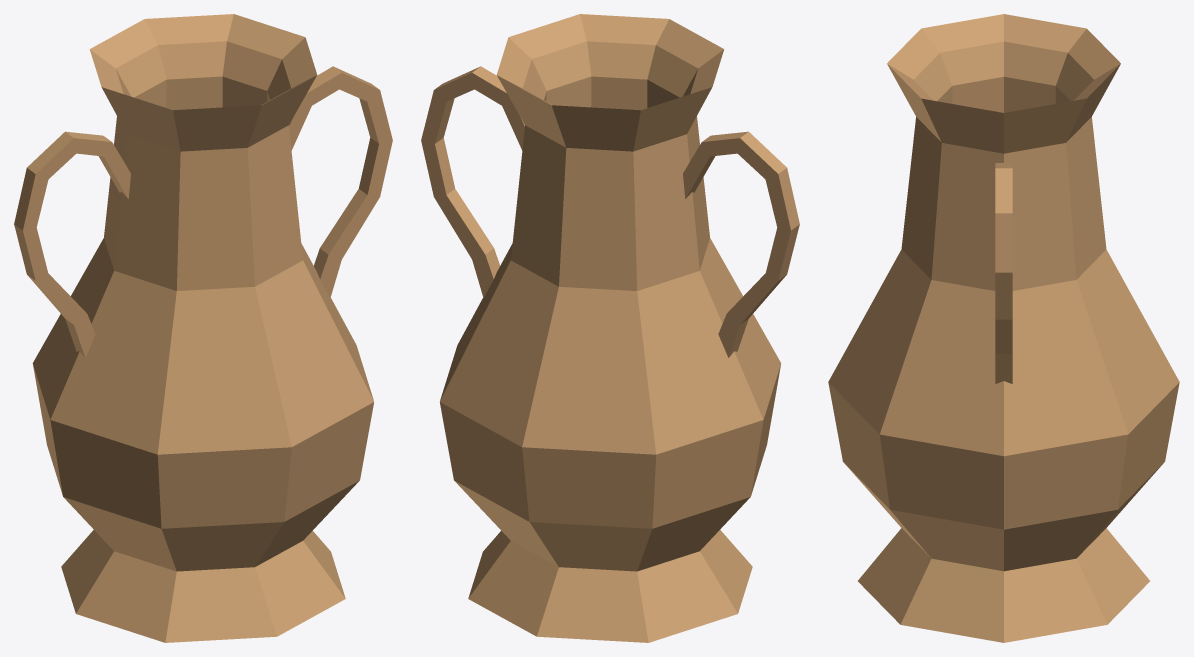
Rendered from Prop_Vase_2.fbx.
3 renders of one model, left to right at view 1: azimuth 30°, elevation 25°; view 2: azimuth 150°, elevation 25°; view 3: azimuth 270°, elevation 25°, orthographic.
Visible parts, largest first — view 1: object1; view 2: object1; view 3: object1.
Boxes of the visible parts, x1,y1,x2,y2 form: object1: (14,14,392,642); object1: (421,14,799,642); object1: (828,14,1179,642).
Bounding box in the file's own units: 0.3625 × 0.4875 × 0.3.
